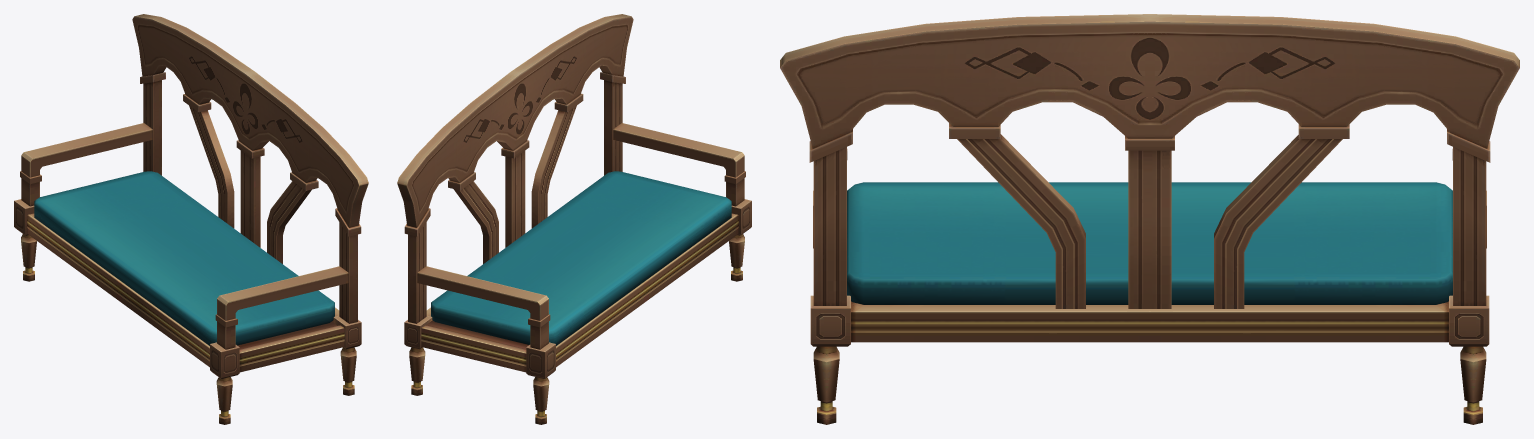
The model's file is my_trinityclassroom_01_sofa_01.glb.
3 renders of one model, left to right at view 1: azimuth 30°, elevation 25°; view 2: azimuth 150°, elevation 25°; view 3: azimuth 270°, elevation 25°, orthographic. The views are drawn at different scales.
Parts seen in each view (by area): view 1: my_trinityclassroom_01_sofa_01; view 2: my_trinityclassroom_01_sofa_01; view 3: my_trinityclassroom_01_sofa_01.
Boxes of the visible parts, box(x1,y1,x2,y2) form: my_trinityclassroom_01_sofa_01: box(14, 14, 368, 424); my_trinityclassroom_01_sofa_01: box(397, 14, 751, 424); my_trinityclassroom_01_sofa_01: box(780, 14, 1519, 424).
Size of the model in its own units: 0.00417 by 0.00702 by 0.0117.
1 material, 1 textured.
